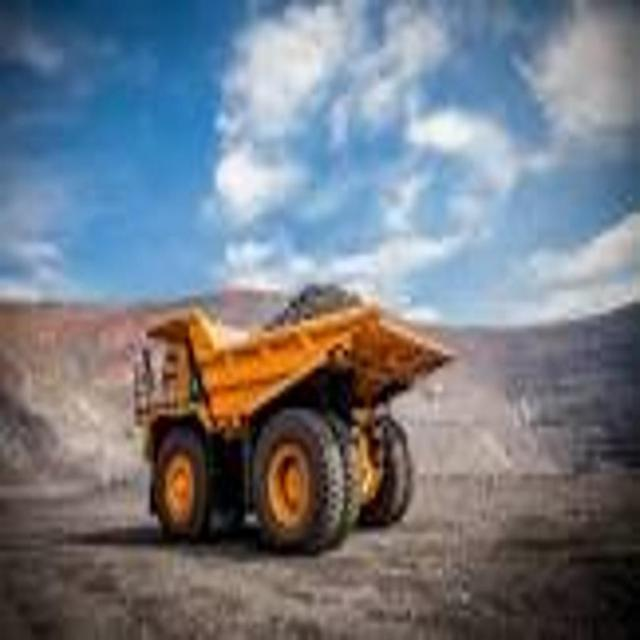dump_truck: (125, 271, 458, 541)
